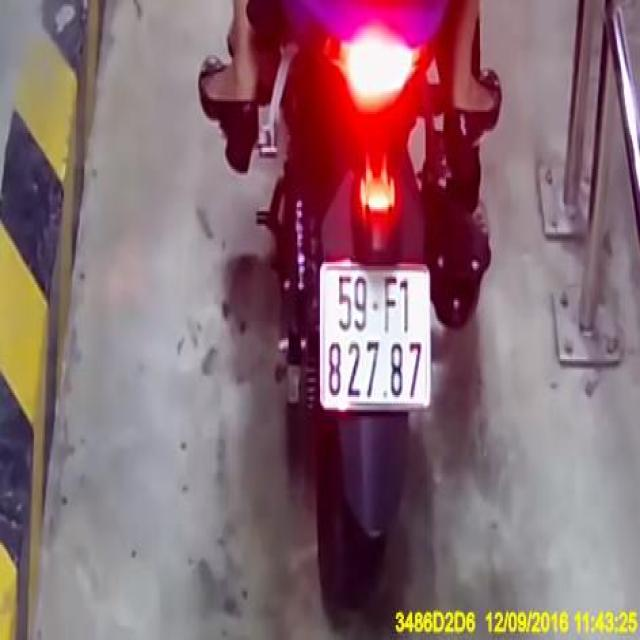1: (398, 277, 412, 337)
2: (344, 340, 362, 400)
5: (336, 273, 352, 332)
7: (366, 337, 382, 399), (408, 340, 425, 398)
8: (390, 338, 406, 398), (328, 341, 344, 396)
9: (353, 273, 368, 334)
F: (384, 271, 397, 334)
